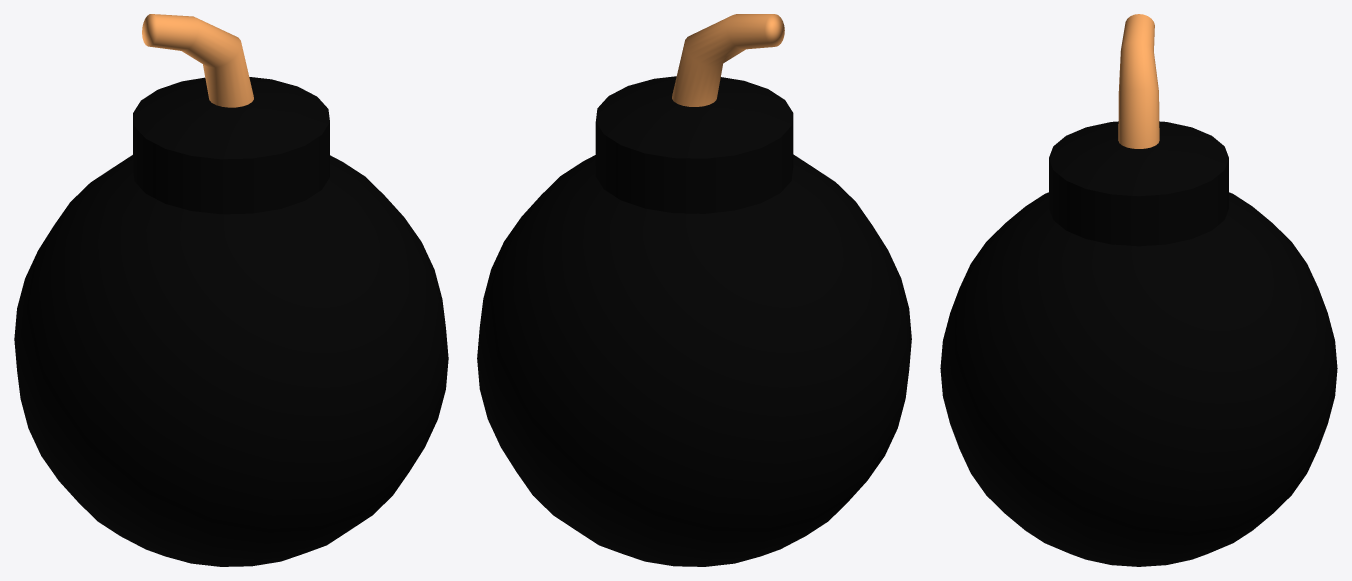
File: bomb.fbx
The picture shows the model from 3 angles, left to right: view 1: azimuth 30°, elevation 25°; view 2: azimuth 150°, elevation 25°; view 3: azimuth 270°, elevation 25°; orthographic projection. The views are drawn at different scales.
Visible parts, largest first — view 1: bomb; view 2: bomb; view 3: bomb.
Boxes of the visible parts, box(x1,y1,x2,y2) form: bomb: box(14, 14, 448, 566); bomb: box(477, 14, 911, 566); bomb: box(940, 14, 1337, 566).
Bounding box in the file's own units: 200 × 278 × 200.
Materials: 1 (1 with a texture image).
